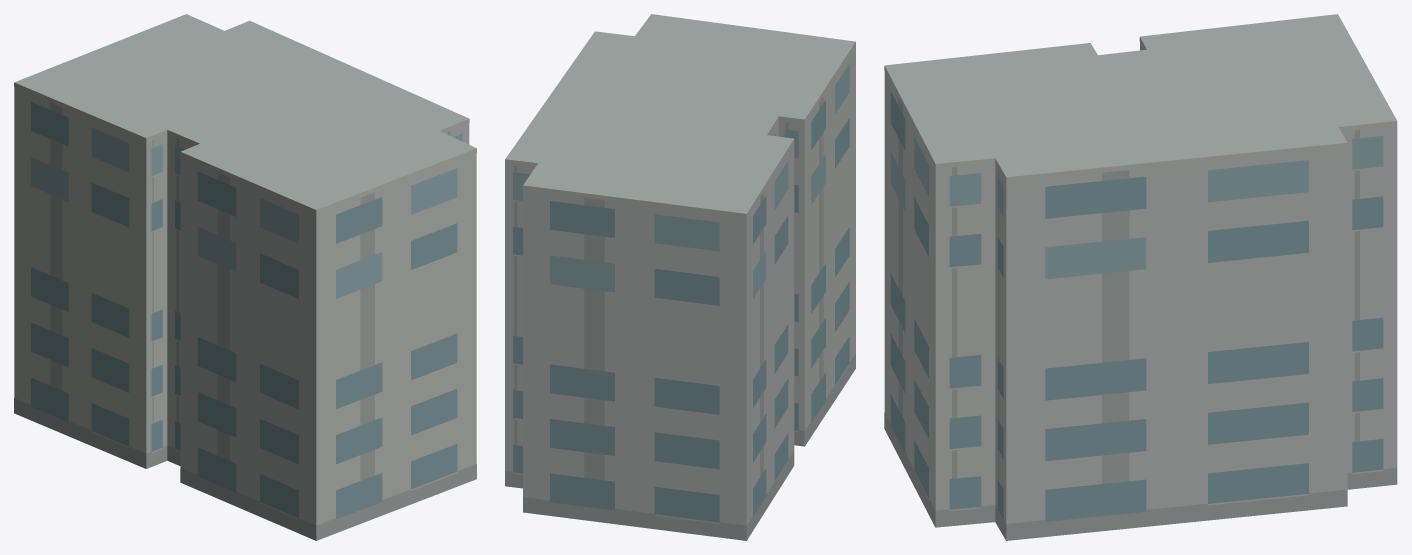
Rendered from survey-upis-32814791.glb.
3 views of the same model, side by side, from view 1: azimuth 30°, elevation 25°; view 2: azimuth 150°, elevation 25°; view 3: azimuth 270°, elevation 25° (orthographic). The views are drawn at different scales.
Parts seen in each view (by area): view 1: survey-upis-32814791.tmp; view 2: survey-upis-32814791.tmp; view 3: survey-upis-32814791.tmp.
Part boxes in pixels (<box>): survey-upis-32814791.tmp: <box>14,14,476,540</box>; survey-upis-32814791.tmp: <box>505,14,855,540</box>; survey-upis-32814791.tmp: <box>884,14,1397,540</box>.
Size of the model in its own units: 16.47 by 17.1 by 21.87.
